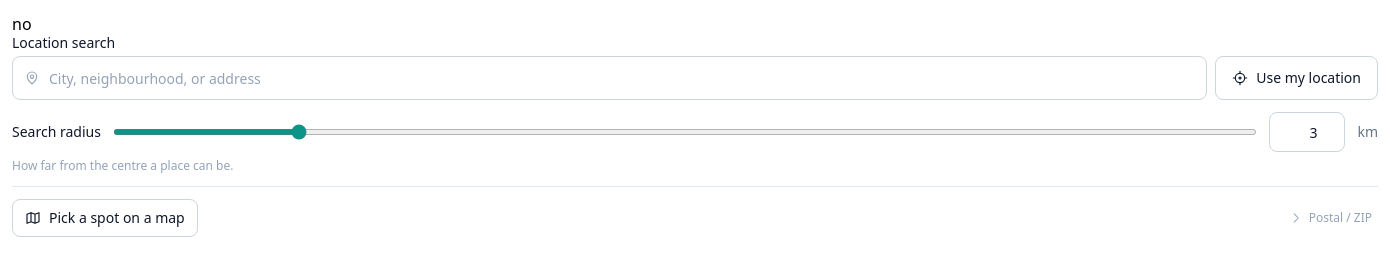
Test case: <LocationField /> — how much the browser's fix can be trusted › treats a null geocode answer as a miss and leaves the field alone
Type "somewhere" into the field labelled "Location search" at (610, 78), box [12,56,1207,100]
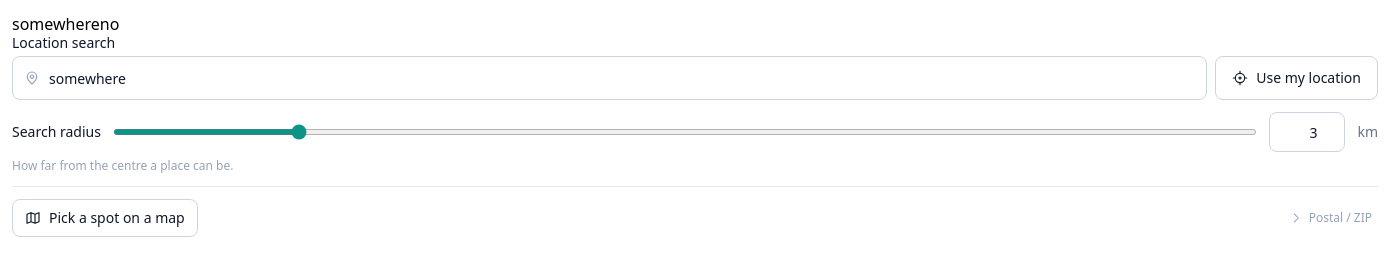
Click the button "Use my location" at (1297, 78), box [1215,56,1378,100]
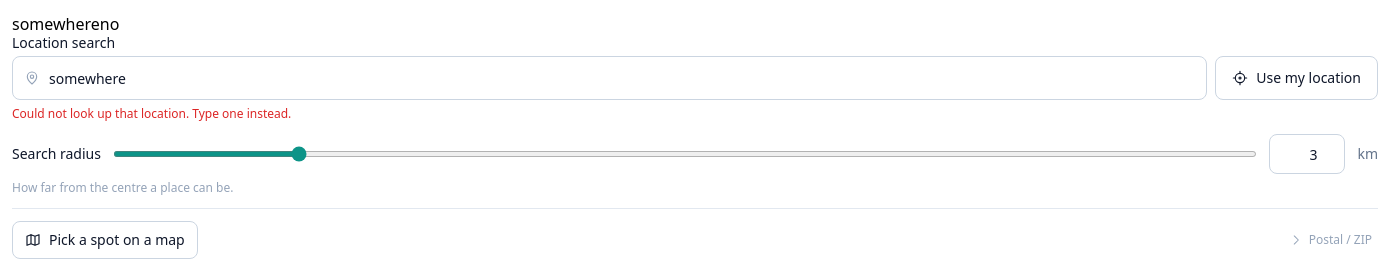
Expected: the text with test id "query" reads "somewhere", [12,13,100,35]
Expected: the text "Could not look up that location. Type one instead." is shown, [12,105,291,122]
